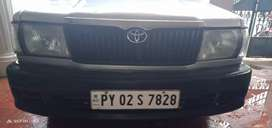PY02S7828: (90, 89, 179, 109)
